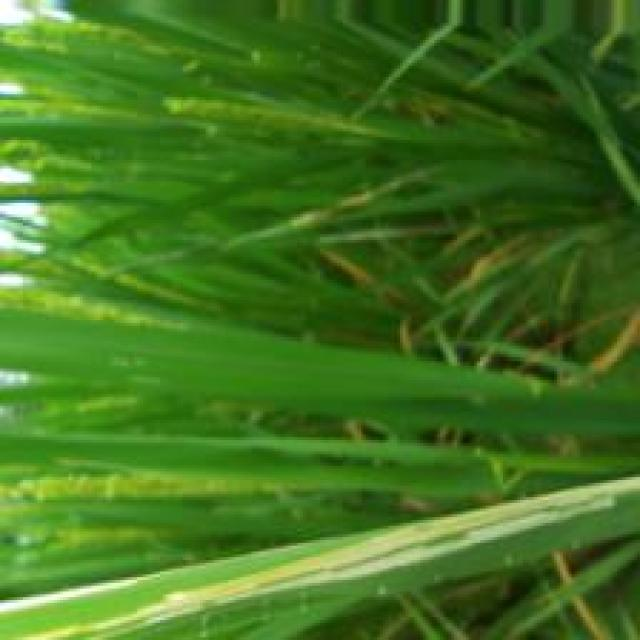Rice_Hispa: (17, 474, 640, 640)
